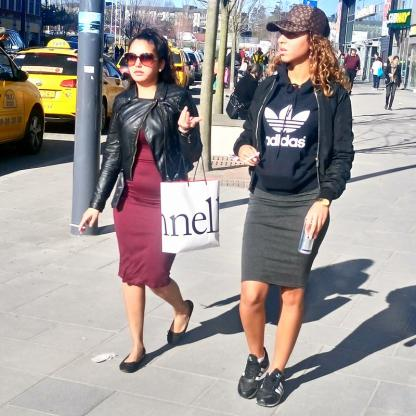smoking: (244, 152, 260, 162), (69, 223, 86, 228)
